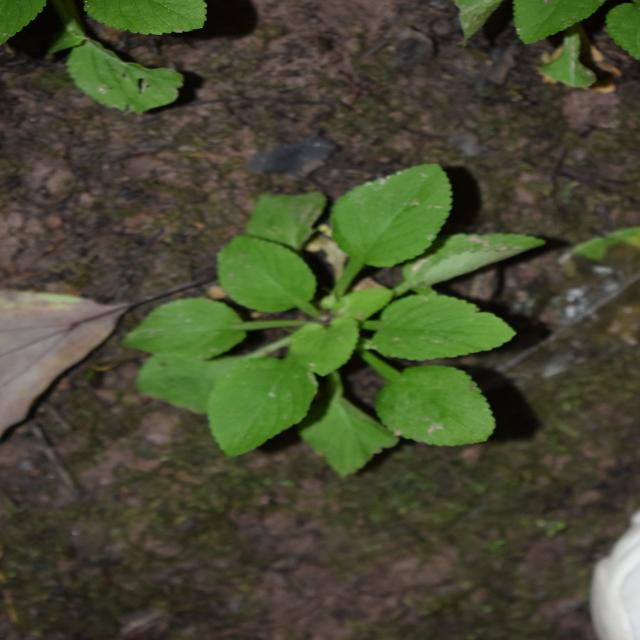Viola: (172, 134, 454, 492)
